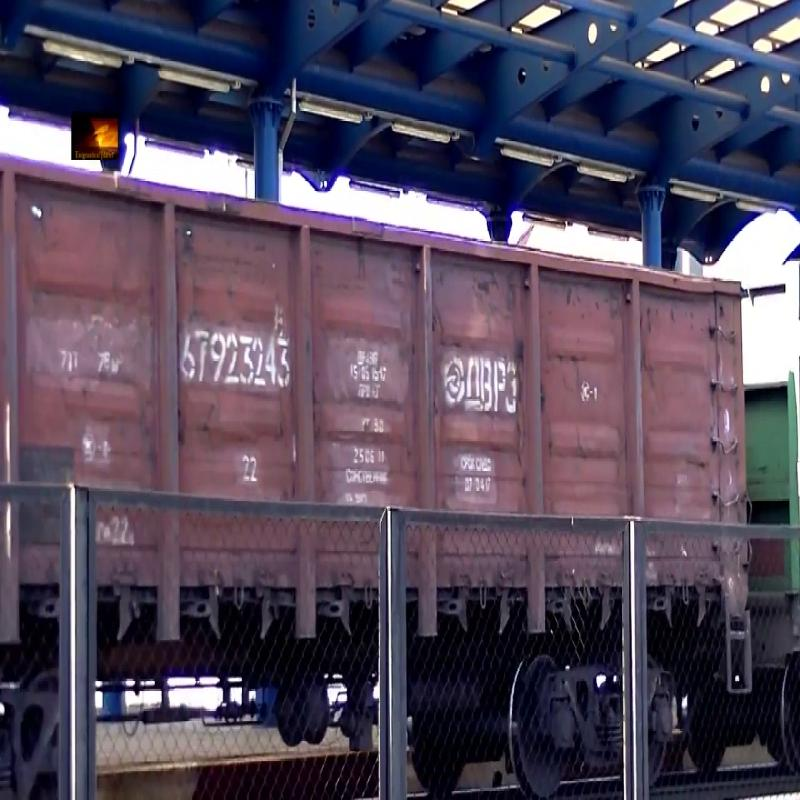train: (1, 46, 789, 765)
